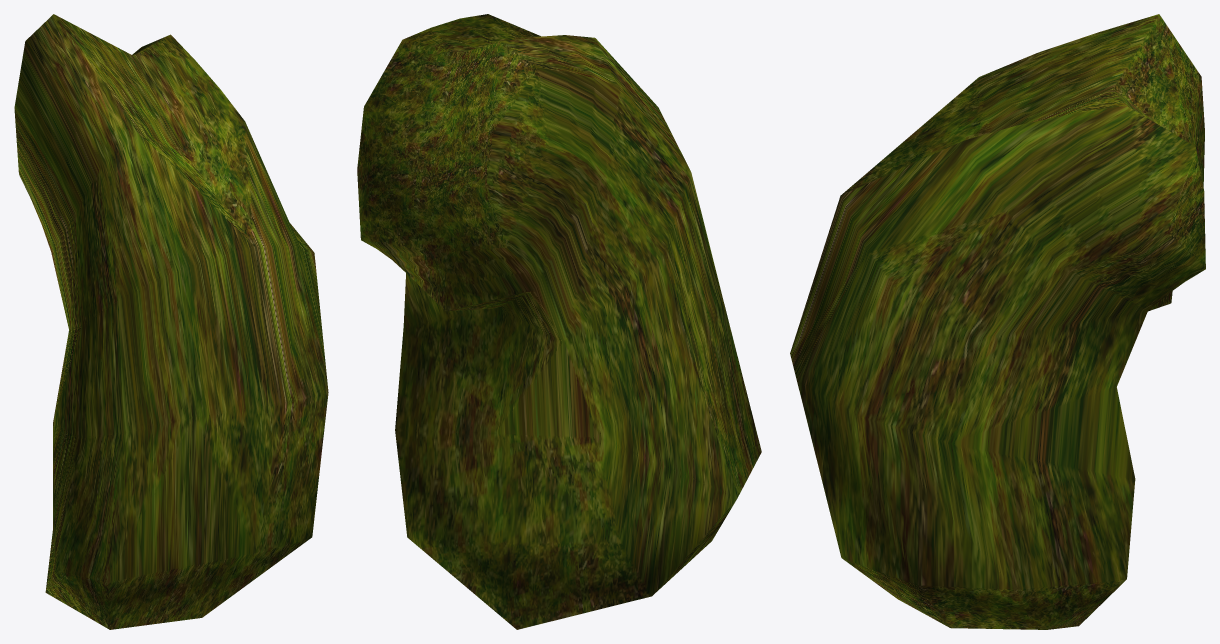
File: LVL_ROAST_MUTTON_ROCK_TOM_SCRATCH_HIGH.fbx
3 renders of one model, left to right at view 1: azimuth 30°, elevation 25°; view 2: azimuth 150°, elevation 25°; view 3: azimuth 270°, elevation 25°, orthographic. The views are drawn at different scales.
Visible parts, largest first — view 1: LVL_ROAST_MUTTON_ROCK_TOM_SCRATCH_HIGH; view 2: LVL_ROAST_MUTTON_ROCK_TOM_SCRATCH_HIGH; view 3: LVL_ROAST_MUTTON_ROCK_TOM_SCRATCH_HIGH.
Boxes of the visible parts, x1=… form: LVL_ROAST_MUTTON_ROCK_TOM_SCRATCH_HIGH: x1=14, y1=14, x2=328, y2=629; LVL_ROAST_MUTTON_ROCK_TOM_SCRATCH_HIGH: x1=357, y1=14, x2=761, y2=629; LVL_ROAST_MUTTON_ROCK_TOM_SCRATCH_HIGH: x1=790, y1=14, x2=1205, y2=629.
Bounding box in the file's own units: 16376 × 34438 × 21646.
Materials: 1 (1 with a texture image).
